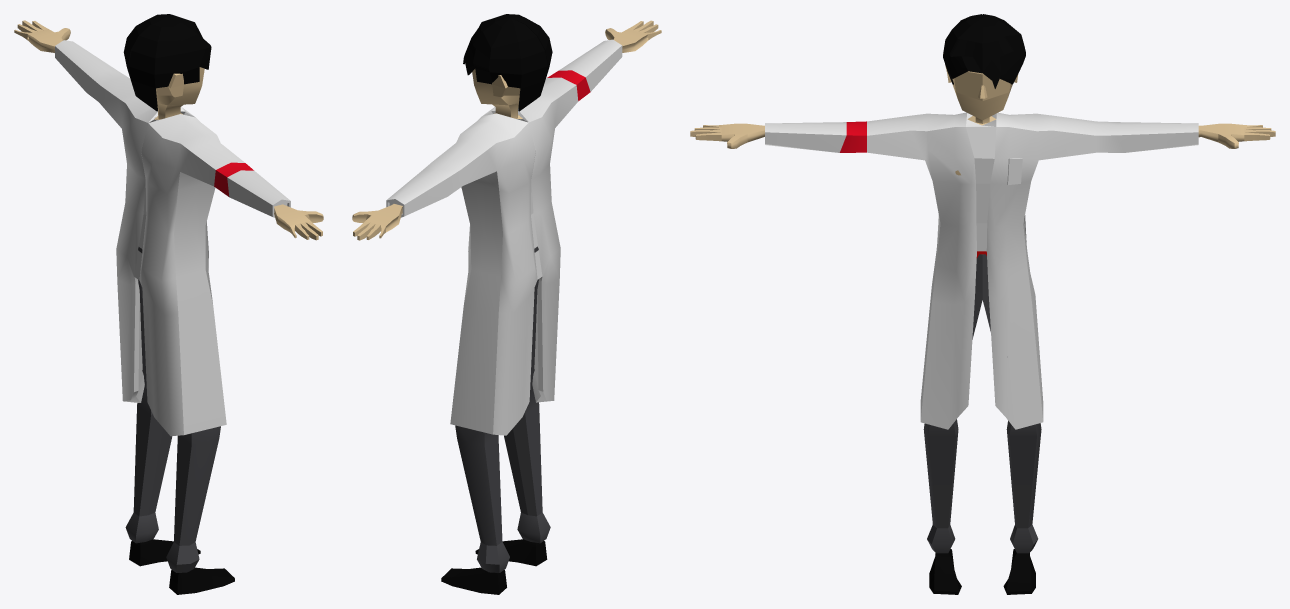
File: dummy.fbx
3 renders of one model, left to right at view 1: azimuth 30°, elevation 25°; view 2: azimuth 150°, elevation 25°; view 3: azimuth 270°, elevation 25°, orthographic.
Parts seen in each view (by area): view 1: pCube16; view 2: pCube16; view 3: pCube16.
Boxes of the visible parts, x1=… form: pCube16: x1=14, y1=14, x2=323, y2=594; pCube16: x1=352, y1=14, x2=661, y2=594; pCube16: x1=690, y1=14, x2=1275, y2=594.
Bounding box in the file's own units: 2.35 × 14.78 × 14.15.
